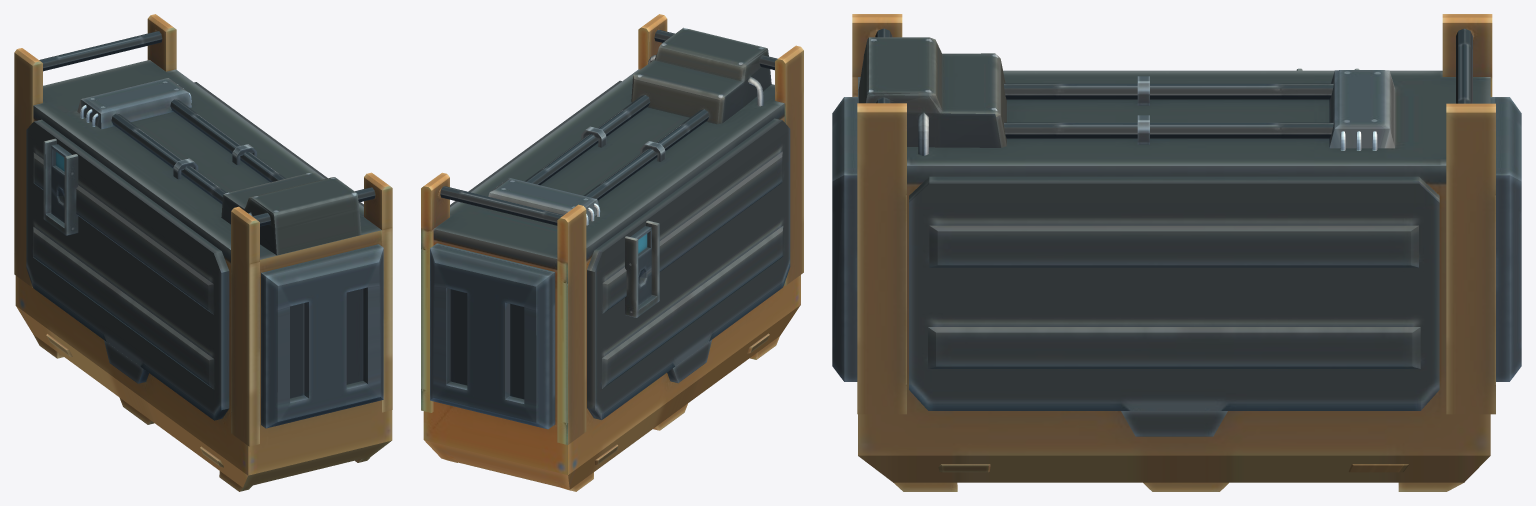
File: Crate_metal_01_1atateV2.fbx
3 views of the same model, side by side, from view 1: azimuth 30°, elevation 25°; view 2: azimuth 150°, elevation 25°; view 3: azimuth 270°, elevation 25° (orthographic). The views are drawn at different scales.
Visible parts, largest first — view 1: polySurface66; view 2: polySurface66; view 3: polySurface66.
Part boxes in pixels (x1,y1,x2,y2): polySurface66: (14, 14, 392, 491); polySurface66: (421, 14, 803, 491); polySurface66: (832, 14, 1521, 491).
Size of the model in its own units: 0.00936 by 0.0144 by 0.0232.
1 material, 1 textured.
